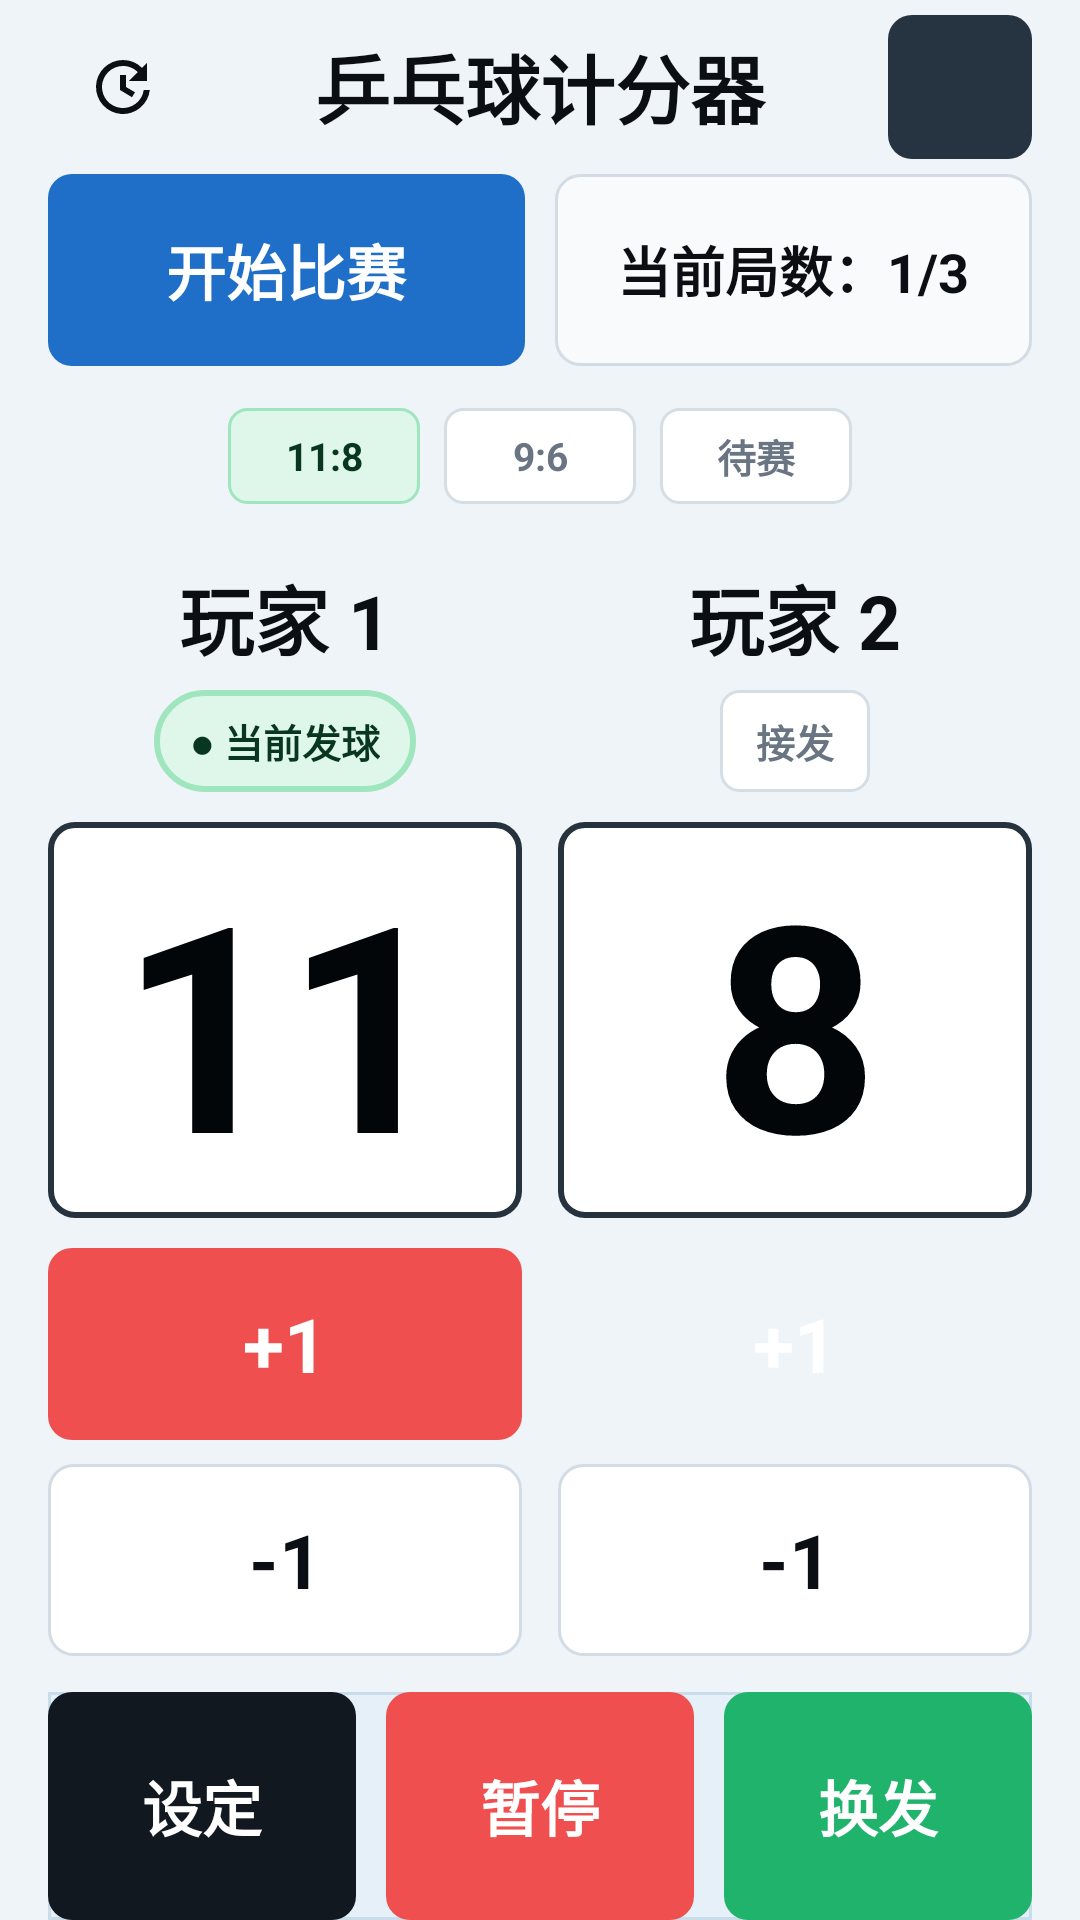

Point at icon controls on the screen. Image size 1080×1920, points as [x,y].
历史记录: [123,87]
